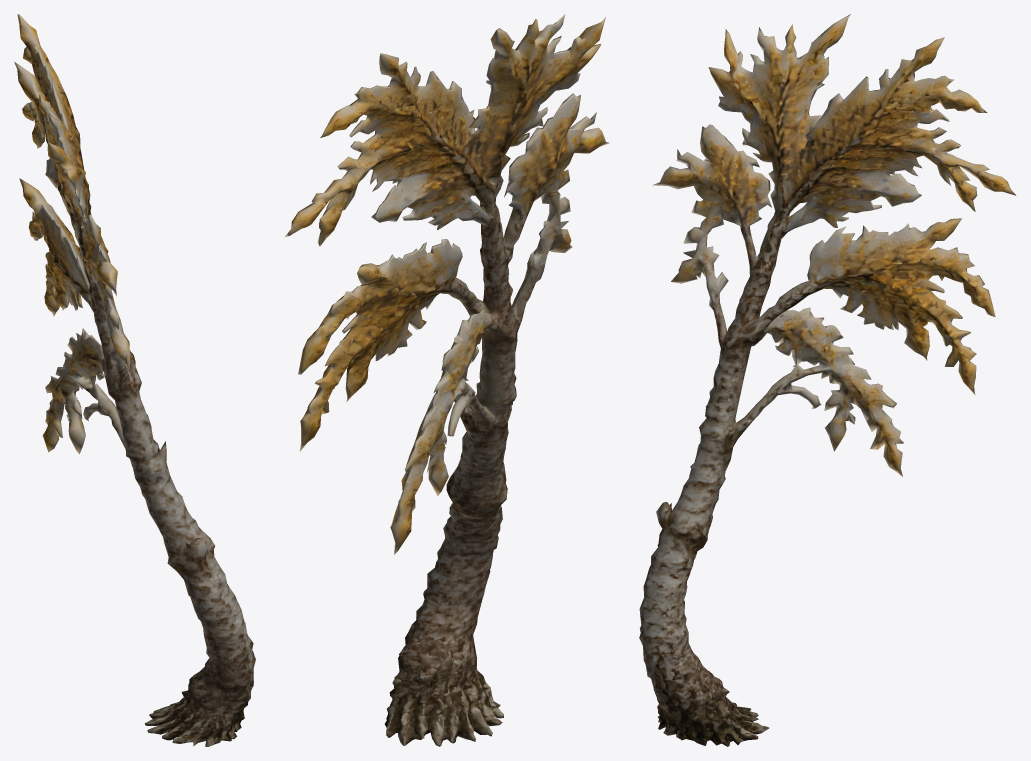
The model's file is steppe-birch-tripo.glb.
3 views of the same model, side by side, from view 1: azimuth 30°, elevation 25°; view 2: azimuth 150°, elevation 25°; view 3: azimuth 270°, elevation 25° (orthographic). The views are drawn at different scales.
Parts seen in each view (by area): view 1: tripo_node_0b53c359-2ed7-4967-9389-27a1d8abfd72; view 2: tripo_node_0b53c359-2ed7-4967-9389-27a1d8abfd72; view 3: tripo_node_0b53c359-2ed7-4967-9389-27a1d8abfd72.
Boxes of the visible parts, x1=… form: tripo_node_0b53c359-2ed7-4967-9389-27a1d8abfd72: x1=14, y1=14, x2=255, y2=746; tripo_node_0b53c359-2ed7-4967-9389-27a1d8abfd72: x1=285, y1=14, x2=609, y2=746; tripo_node_0b53c359-2ed7-4967-9389-27a1d8abfd72: x1=639, y1=14, x2=1016, y2=746.
Bounding box in the file's own units: 0.296 × 1 × 0.5173.
Materials: 1 (1 with a texture image).
